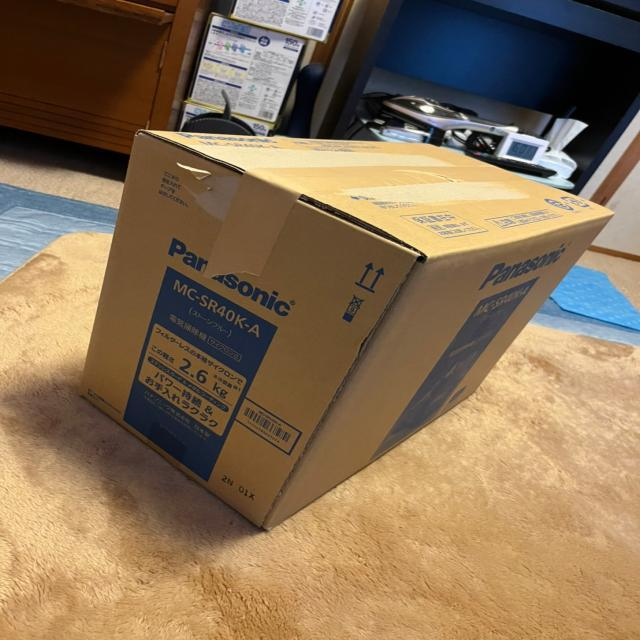-: (77, 127, 626, 539)
